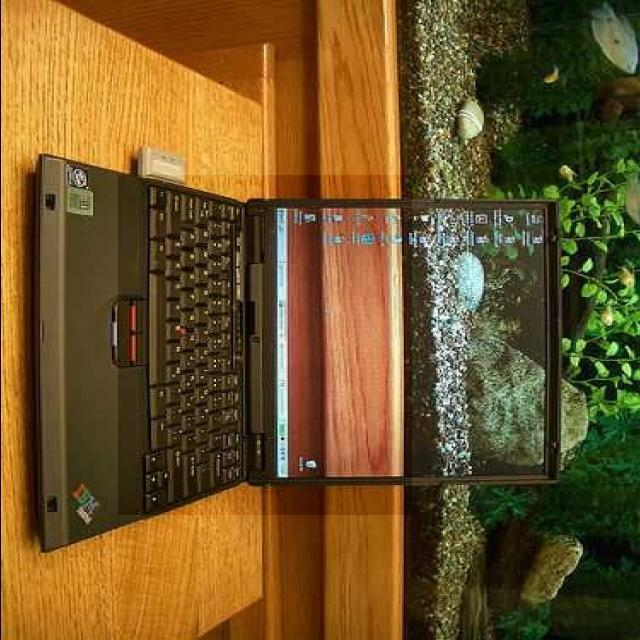-keyboard-: (118, 175, 412, 515)
